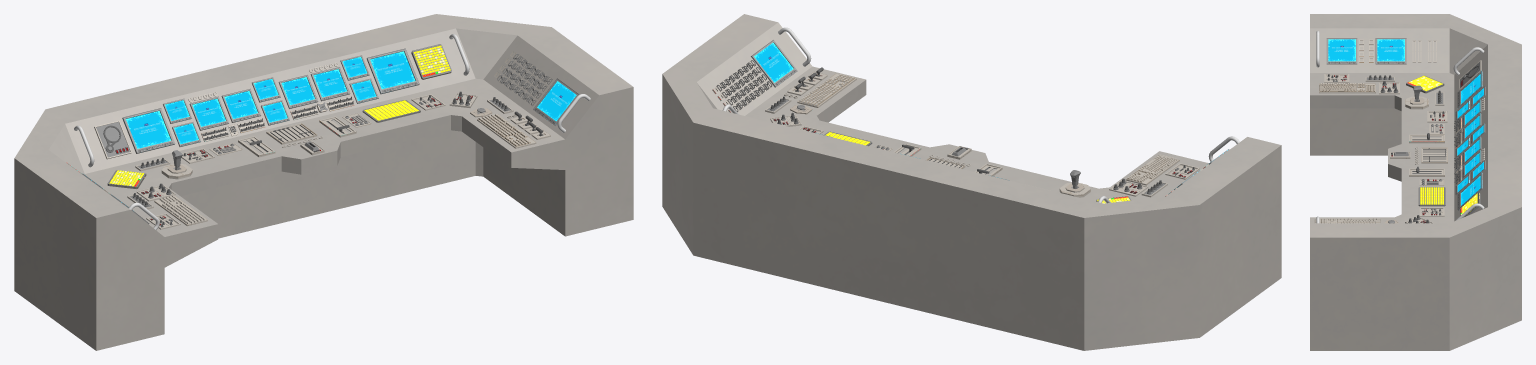
Rendered from panel_4a.fbx.
3 views of the same model, side by side, from view 1: azimuth 30°, elevation 25°; view 2: azimuth 150°, elevation 25°; view 3: azimuth 270°, elevation 25° (orthographic). The views are drawn at different scales.
Visible parts, largest first — view 1: panel_4a, display2.003, switch_big.011, display2.006, switch_board.004, button_board.004, device_radar.001, keyboard.003, button_board.003, keyboard.002, slider_board.001, button_board.005 (+3 smaller); view 2: panel_4a, switch_big.011, display2.006, keyboard.003, keyboard.002, joystick_big.002; view 3: panel_4a, display2.003, display2.005, display2.004, keyboard.002, button_board.003, slider_board.001, button_board.005, switch_board.004, joystick_big.002, keyboard.003, slider.001 (+10 smaller).
Part boxes in pixels (x1,y1,x2,y2): panel_4a: [14, 14, 633, 350]; display2.003: [122, 48, 419, 153]; switch_big.011: [497, 54, 552, 106]; display2.006: [533, 78, 579, 126]; switch_board.004: [201, 96, 354, 141]; button_board.004: [411, 44, 451, 79]; device_radar.001: [94, 120, 131, 159]; keyboard.003: [477, 114, 536, 148]; button_board.003: [362, 100, 420, 122]; keyboard.002: [154, 195, 207, 226]; slider_board.001: [266, 123, 317, 144]; button_board.005: [107, 170, 146, 188]; panel_4a: [662, 14, 1281, 350]; switch_big.011: [716, 60, 772, 112]; display2.006: [751, 40, 797, 87]; keyboard.003: [797, 73, 856, 107]; keyboard.002: [1125, 154, 1179, 185]; joystick_big.002: [1059, 170, 1090, 197]; panel_4a: [1310, 14, 1521, 350]; display2.003: [1455, 70, 1485, 210]; display2.005: [1375, 38, 1406, 64]; display2.004: [1326, 38, 1357, 64]; keyboard.002: [1319, 83, 1375, 93]; button_board.003: [1418, 187, 1445, 206]; slider_board.001: [1421, 147, 1447, 163]; button_board.005: [1406, 75, 1444, 93]; switch_board.004: [1454, 118, 1461, 185]; joystick_big.002: [1405, 85, 1428, 109]; keyboard.003: [1314, 218, 1380, 223]; slider.001: [1409, 133, 1444, 143].
Size of the model in its own units: 1100 by 262 by 440.
Materials: 7 (6 with a texture image).
